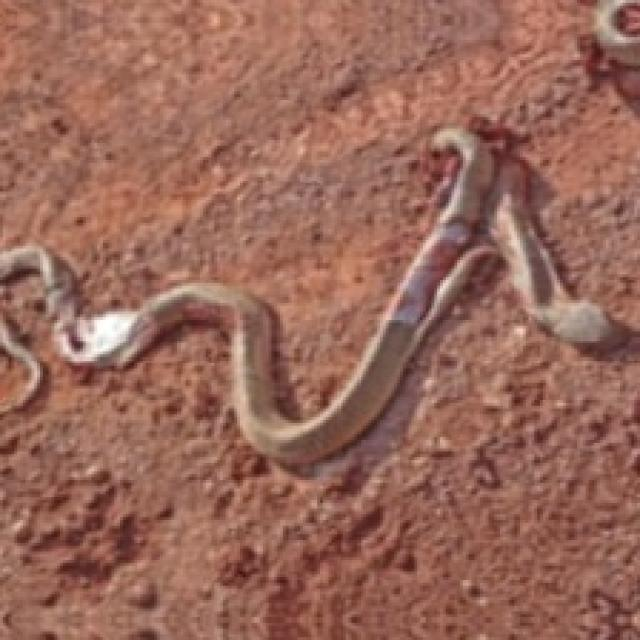king cobra: (0, 123, 637, 474)
